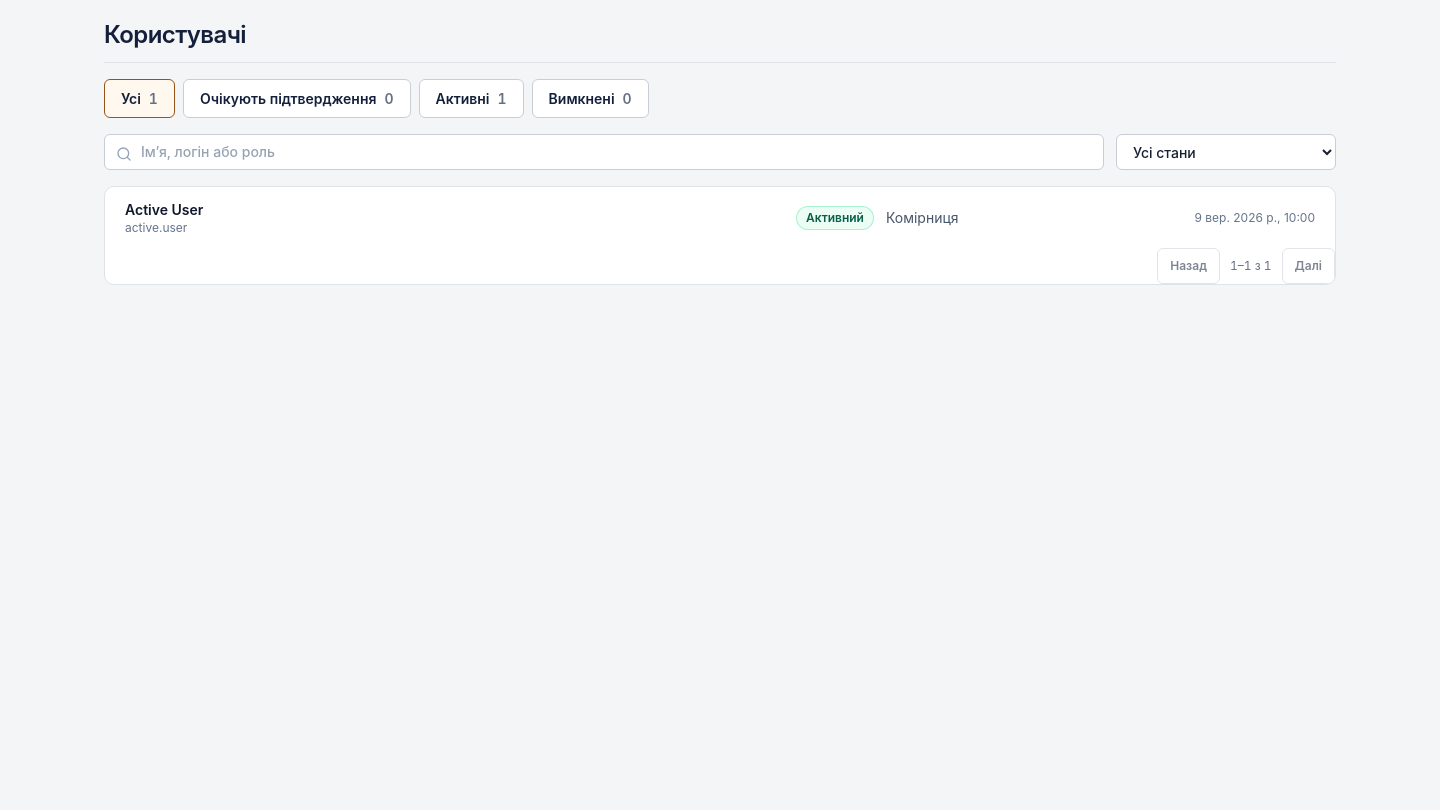
Test: application-user administration UI › does not report a successful access change as failed when list refresh fails
Expected: the text "Active User" is shown, [125, 201, 203, 218]
Click the button with aria-label "Відкрити Active User" at (164, 210), box [105, 187, 1335, 248]
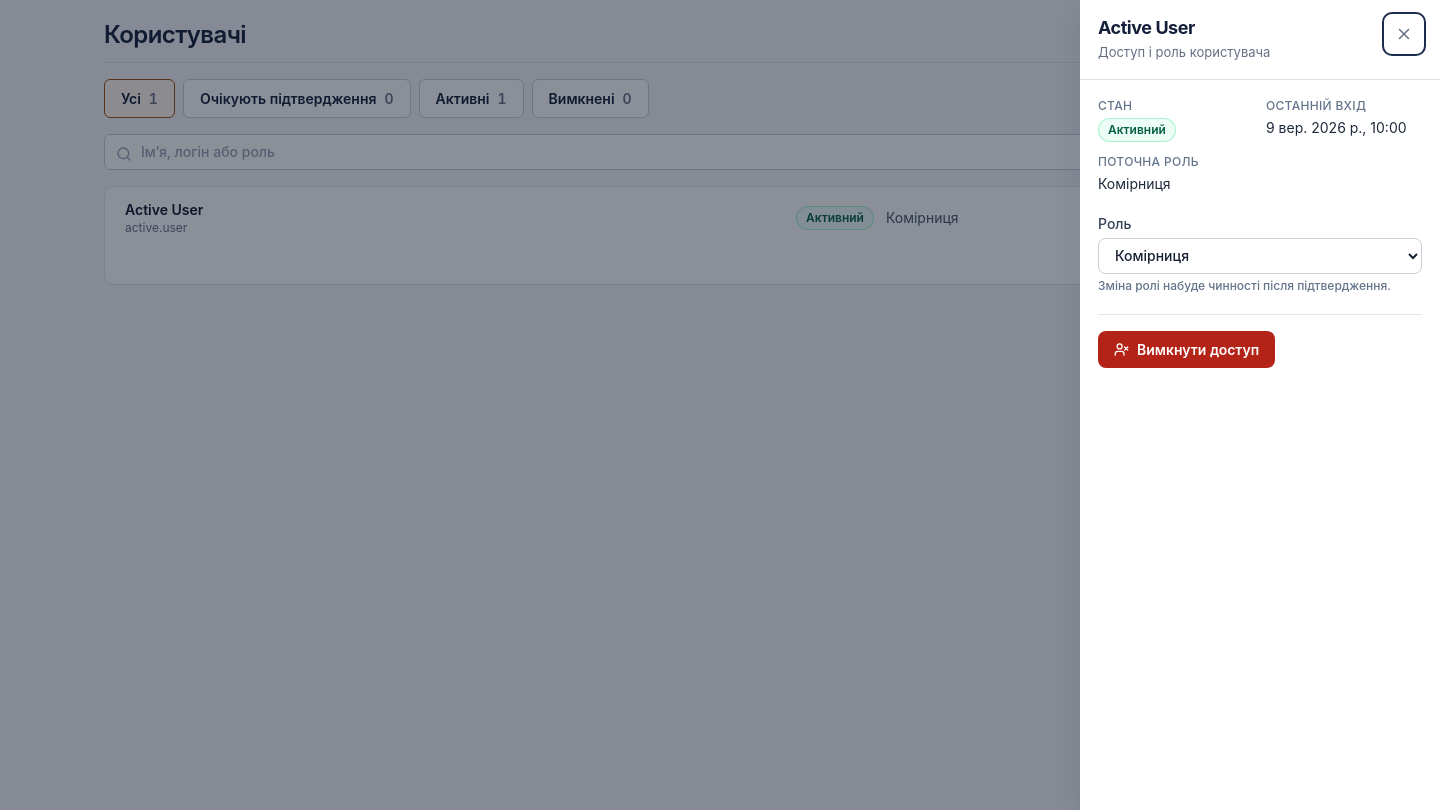
Click the button with aria-label "Вимкнути доступ для Active User" at (1187, 349), box [1098, 331, 1275, 368]
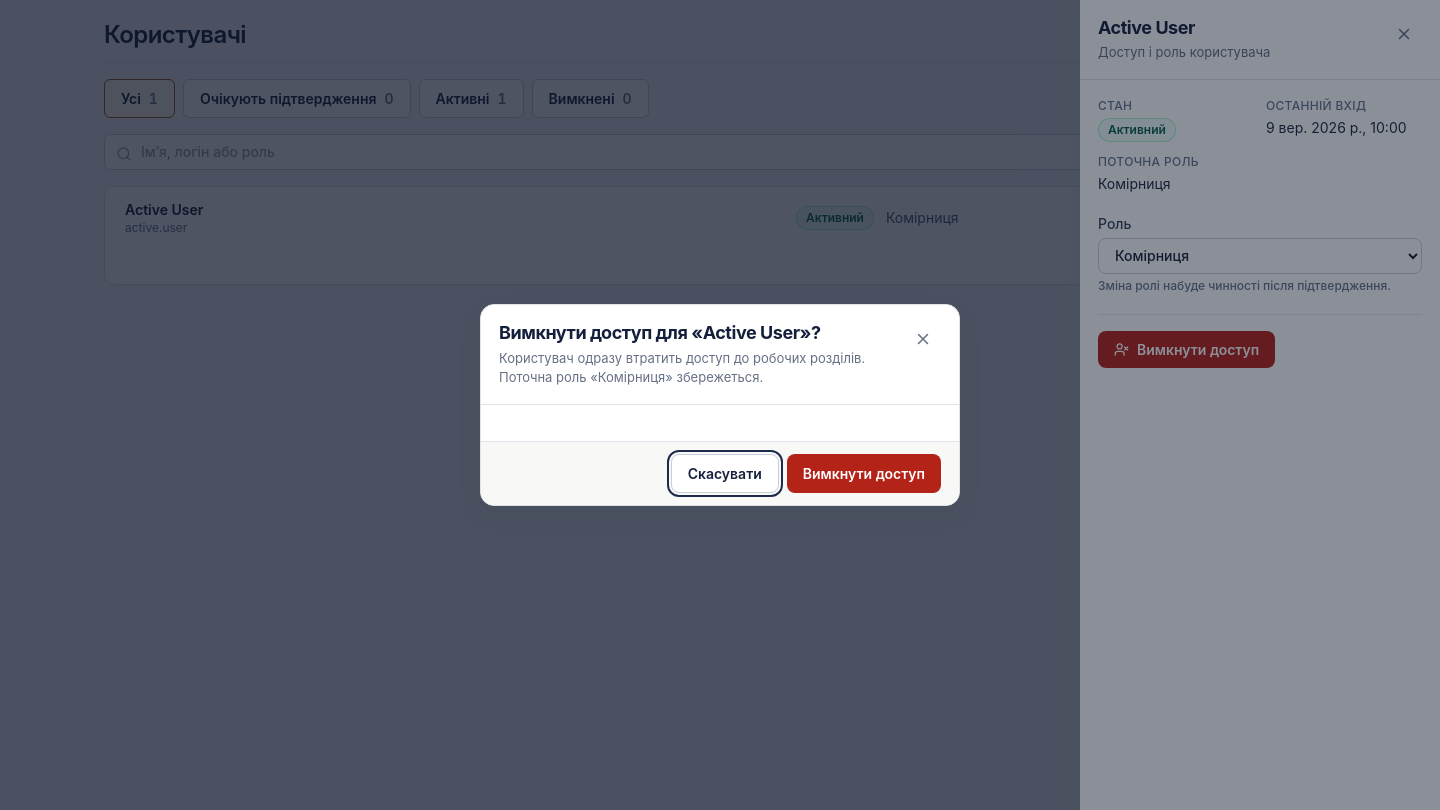
Click the button "Вимкнути доступ" at (864, 473), box [787, 454, 941, 493]
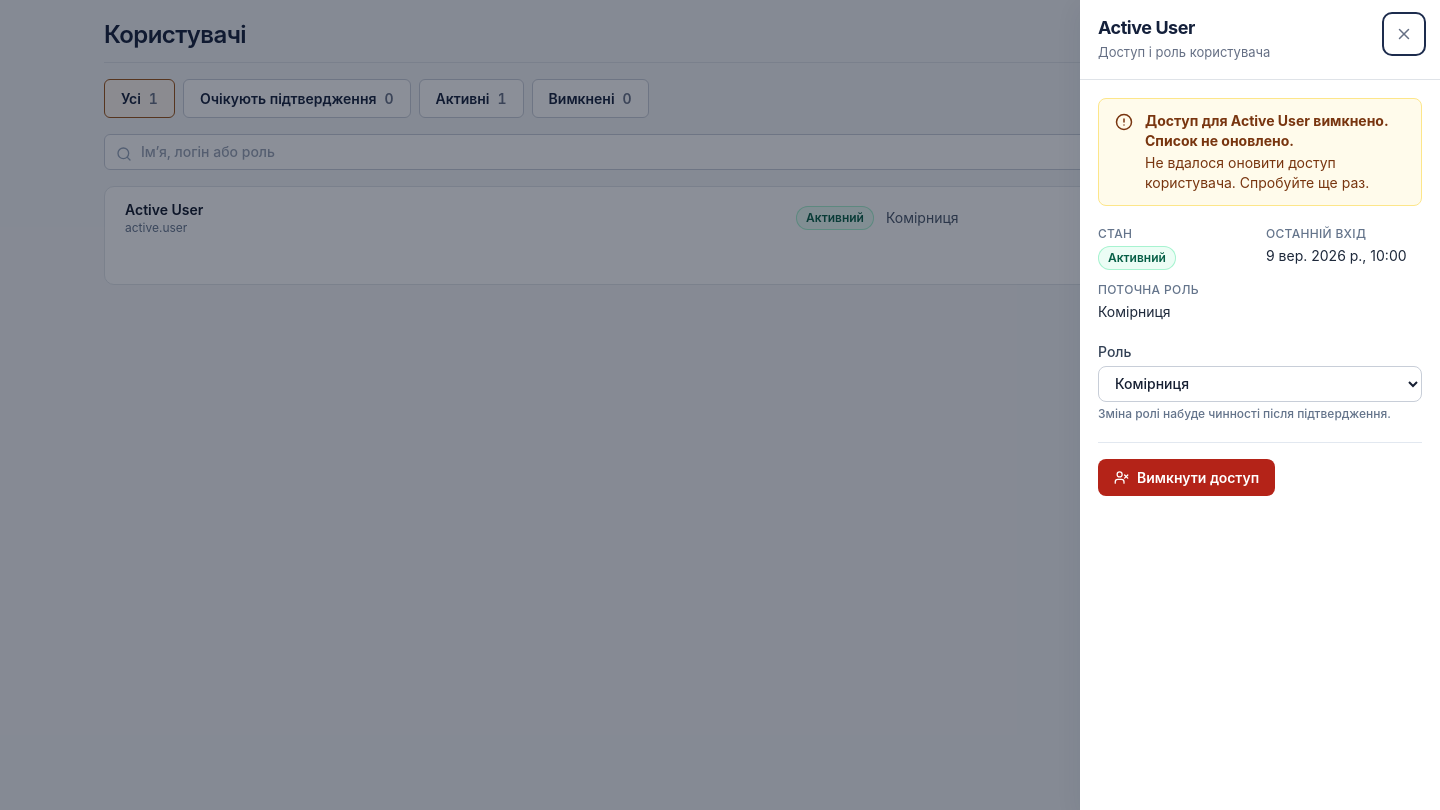
Result: the text "Доступ для Active User вимкнено. Список не оновлено." is shown at [1145, 111, 1405, 151]
